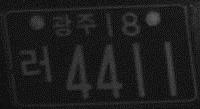1: (128, 41, 147, 100), (163, 39, 177, 97), (103, 10, 114, 39)
4: (95, 43, 124, 100), (64, 42, 91, 101)
8: (120, 11, 140, 37)
광주_O: (51, 12, 96, 38)
러: (19, 45, 53, 83)
